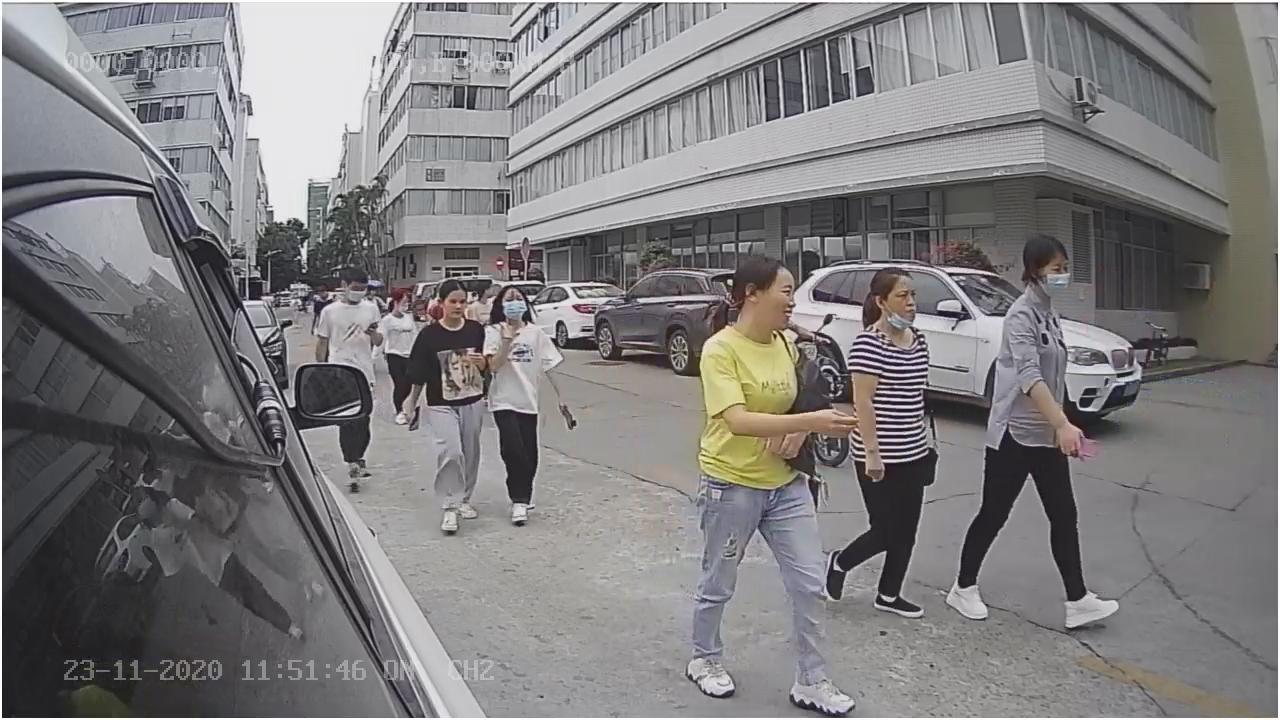person: (686, 253, 858, 714), (944, 229, 1126, 629), (397, 279, 496, 534)
